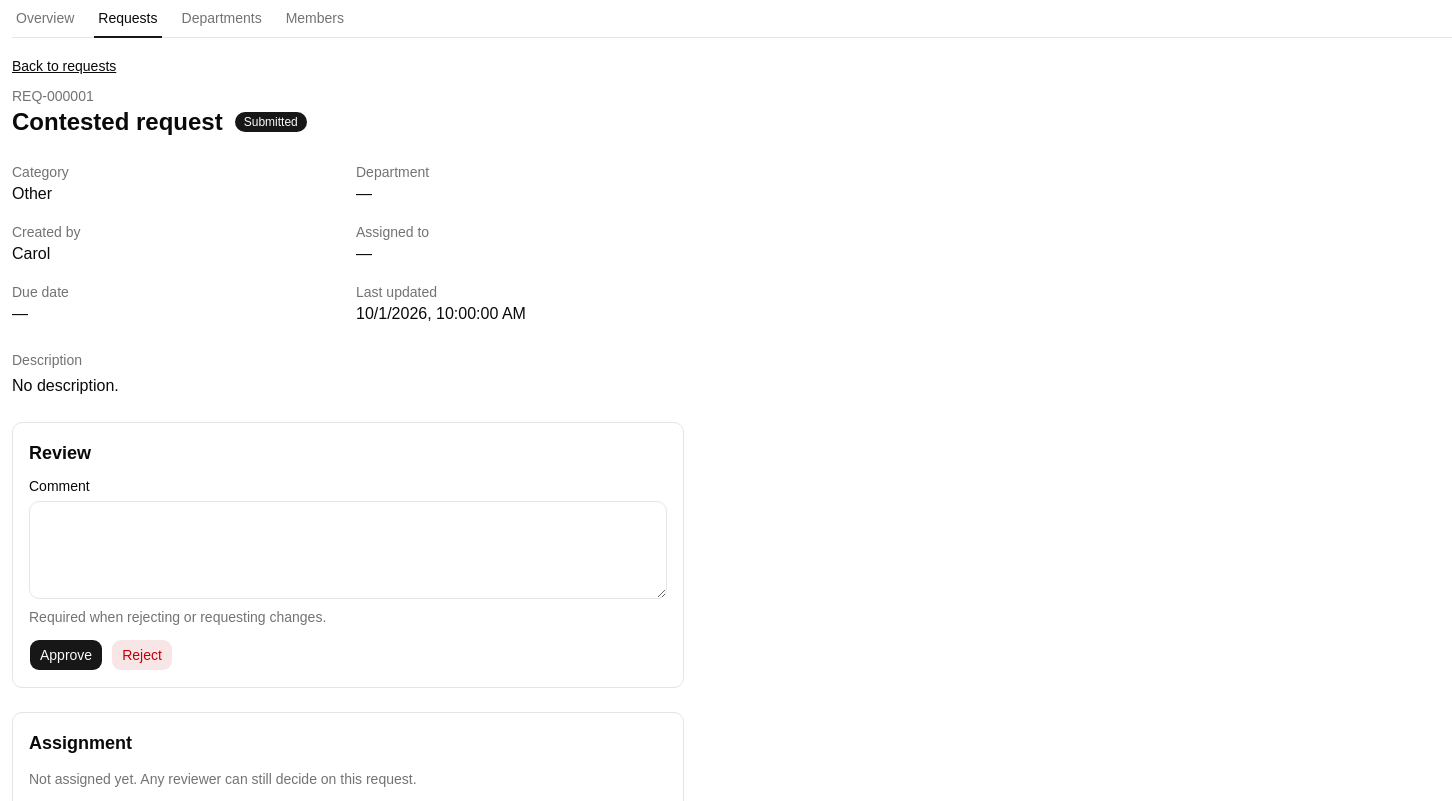
it: a conflict that takes away what the viewer could do › still explains a review conflict after the review controls are gone
What coordinates should you click on to do the following:
click the button "Approve"
I would click on:
 (66, 655)
Its box is [29,639,103,671].
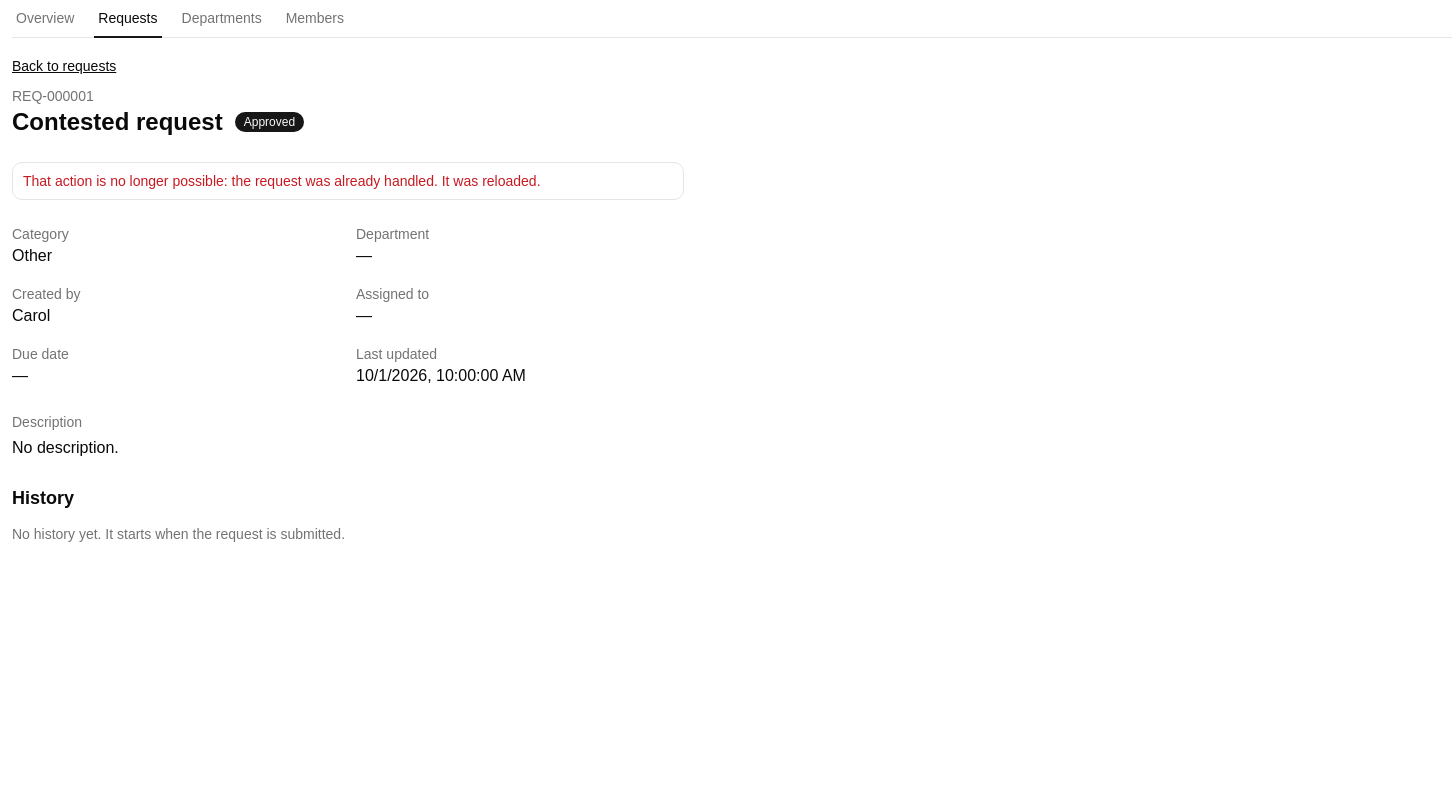
Result: the text "Approved" is shown at [235,112,304,132]
Result: the text "already handled" is shown at [23,173,540,189]
